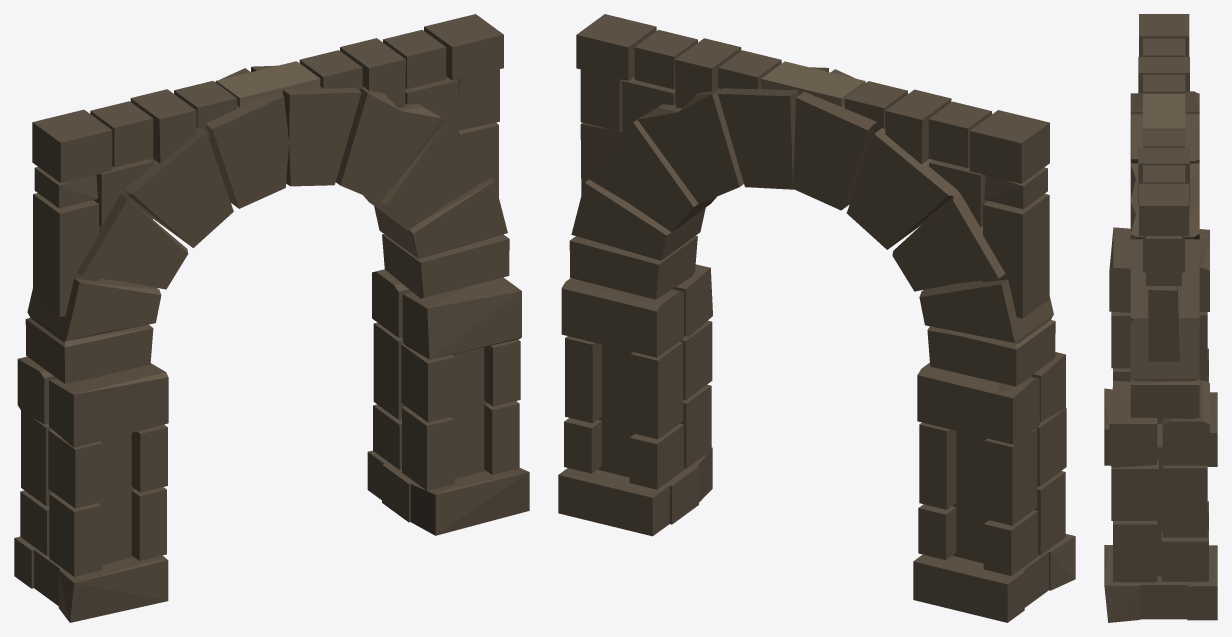
The model's file is rock_arch_1.glb.
The picture shows the model from 3 angles, left to right: view 1: azimuth 30°, elevation 25°; view 2: azimuth 150°, elevation 25°; view 3: azimuth 270°, elevation 25°; orthographic projection. The views are drawn at different scales.
Visible parts, largest first — view 1: rock_arch_1; view 2: rock_arch_1; view 3: rock_arch_1.
Part boxes in pixels (x1,y1,x2,y2): rock_arch_1: [14, 14, 529, 622]; rock_arch_1: [558, 14, 1075, 622]; rock_arch_1: [1104, 14, 1217, 622].
Size of the model in its own units: 5.12 by 4.95 by 1.23.
